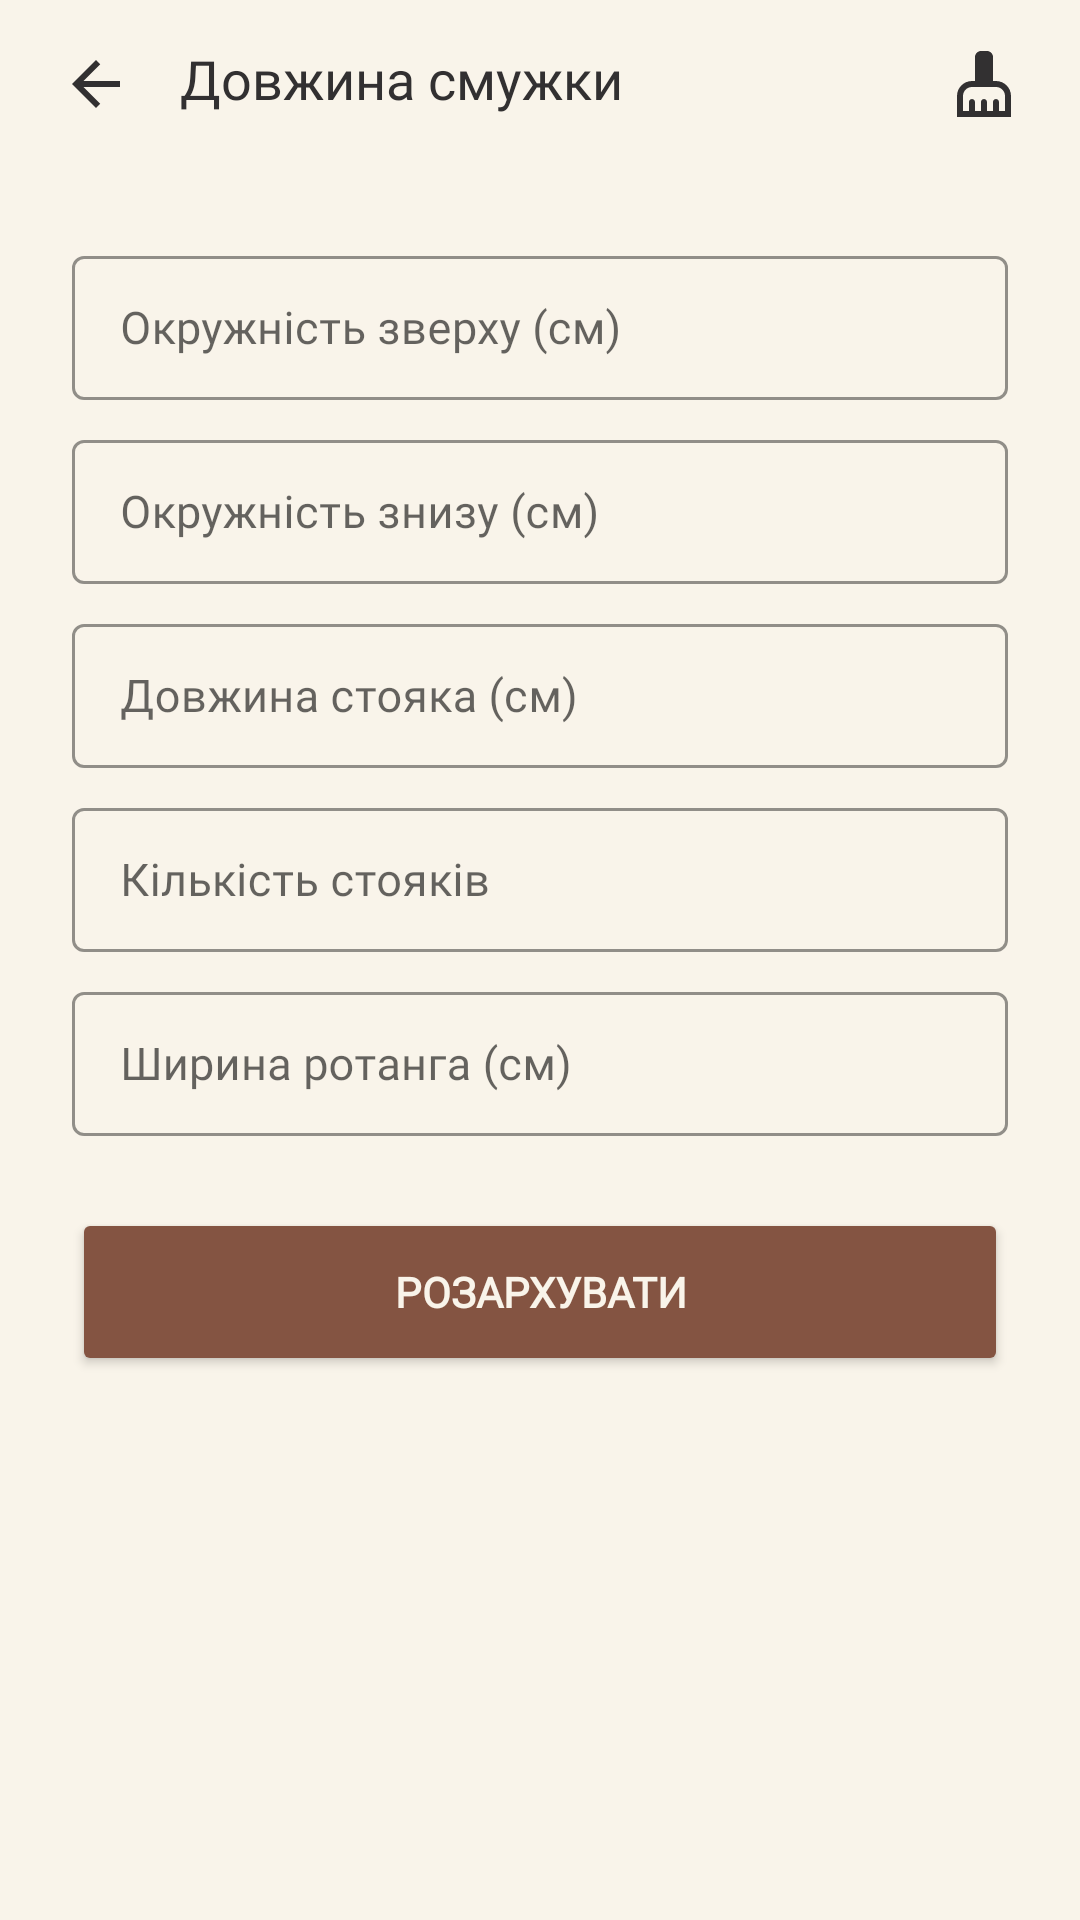

Where icons sit on this 1080px×1920px app screen, as (x1, y1, x2, y2):
cleaning: (957, 51, 1011, 117)
Кнопка повернутися назад: (72, 60, 120, 108)
